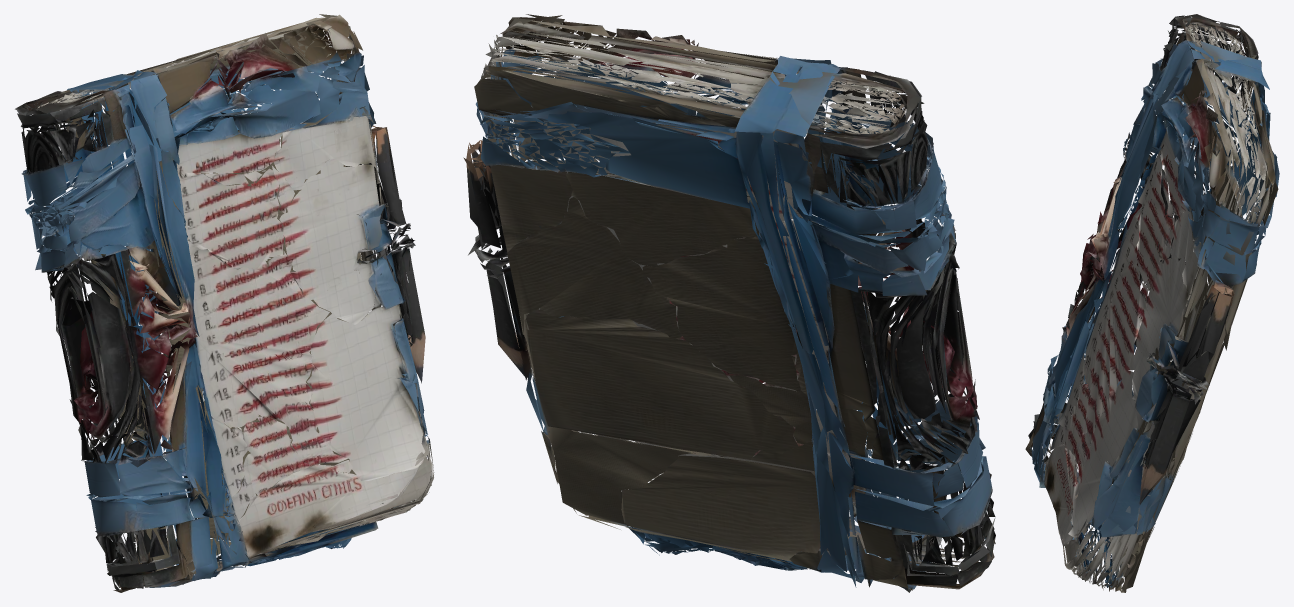
File: drop_ration_ledger.glb
3 views of the same model, side by side, from view 1: azimuth 30°, elevation 25°; view 2: azimuth 150°, elevation 25°; view 3: azimuth 270°, elevation 25° (orthographic). The views are drawn at different scales.
Visible parts, largest first — view 1: node_0; view 2: node_0; view 3: node_0.
Boxes of the visible parts, x1=… form: node_0: x1=15, y1=14, x2=434, y2=592; node_0: x1=463, y1=14, x2=995, y2=592; node_0: x1=1025, y1=14, x2=1279, y2=592.
Size of the model in its own units: 0.7972 by 0.9686 by 0.4797.
1 material, 1 textured.
